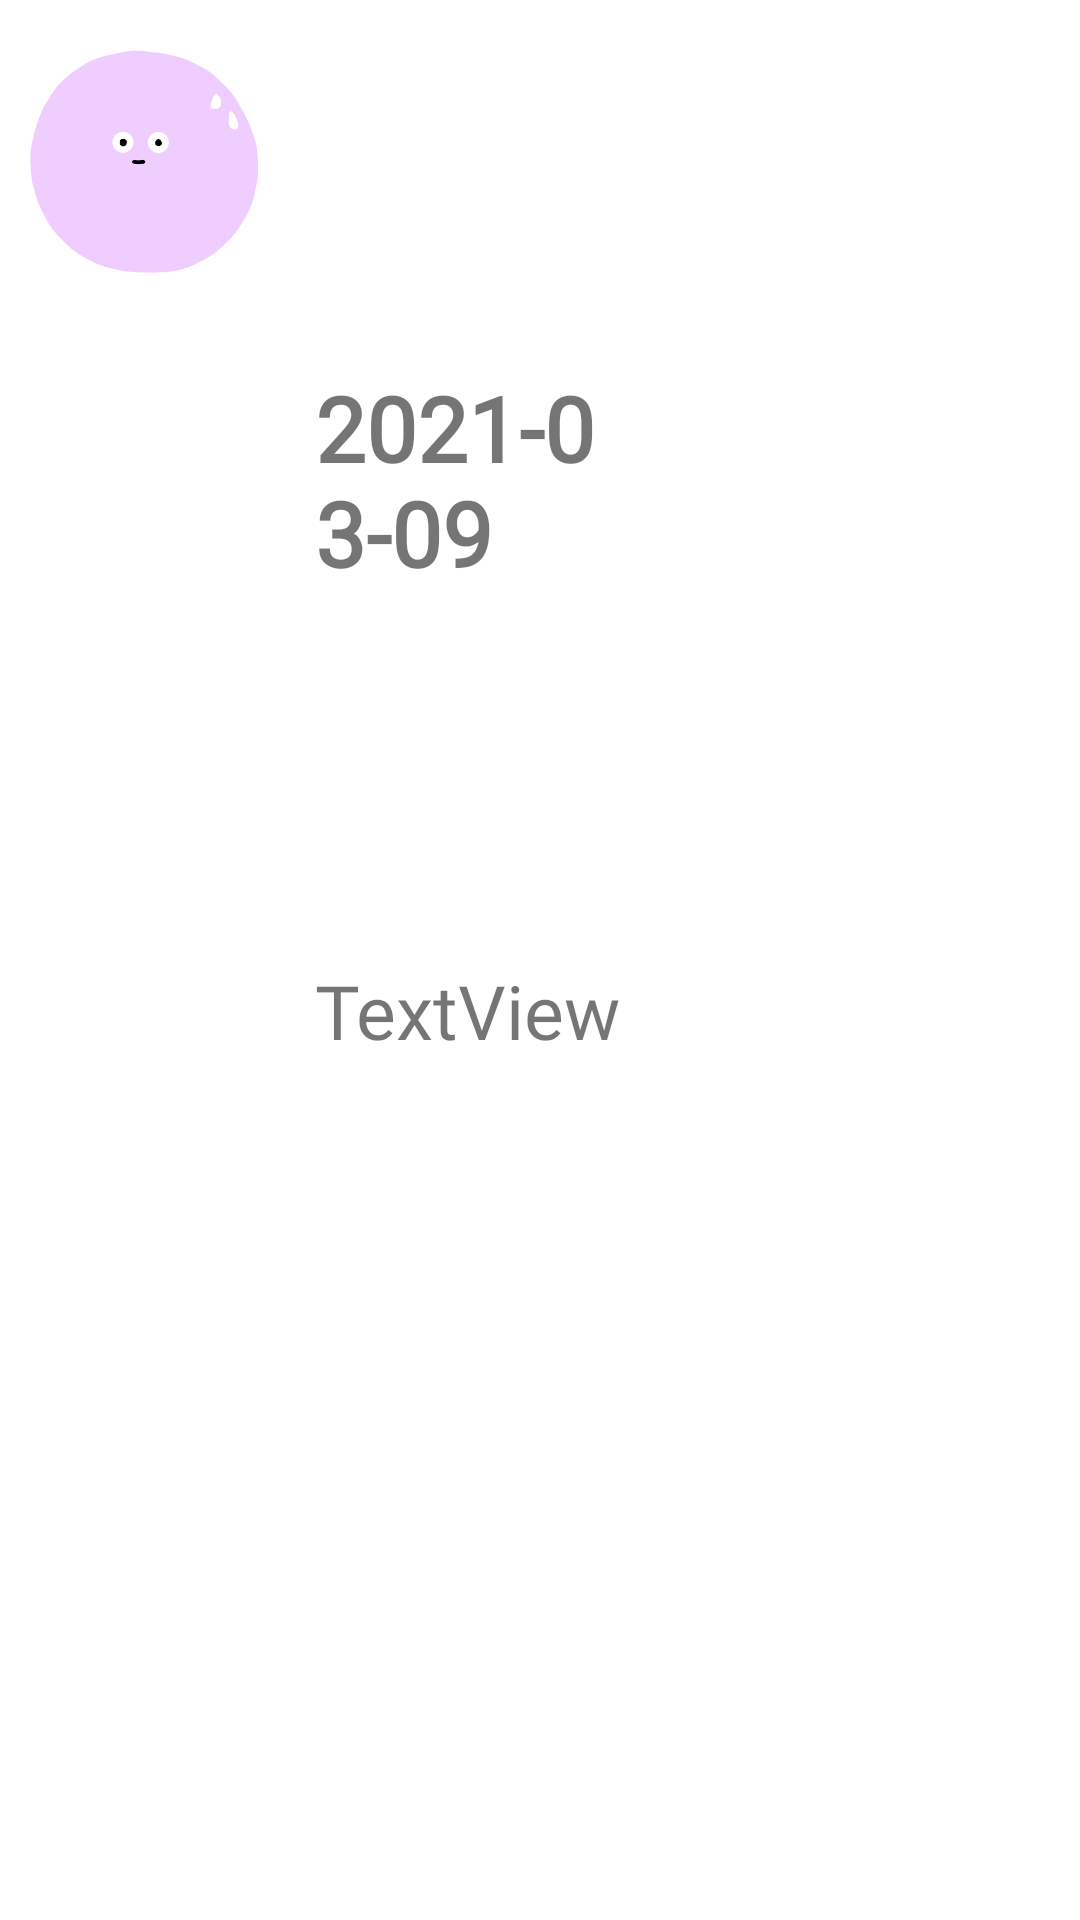

Named icons in this screenshot (1080 x 1920) and their bounding boxes, (x1, y1, x2, y2):
anxiety: (30, 51, 258, 273)
